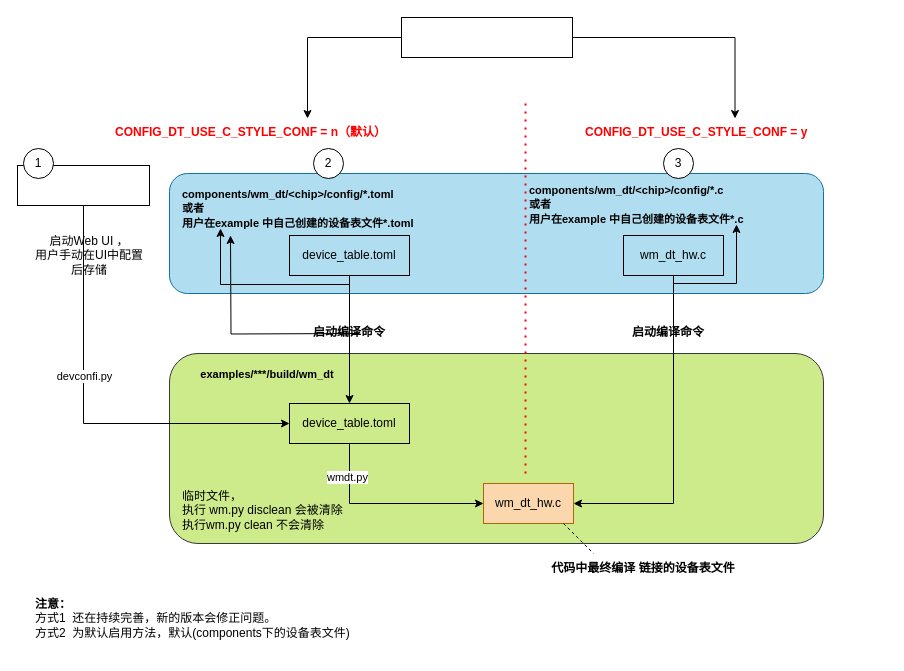
Image size: 904x671. Some labels were removed from this diagram. Here are the shapes that lost their labels. From the top down, the centre of each, then its label:
the point at 486,37: 命令： wm.py menuconfig
the point at 83,185: 命令： wm.py devconfig
